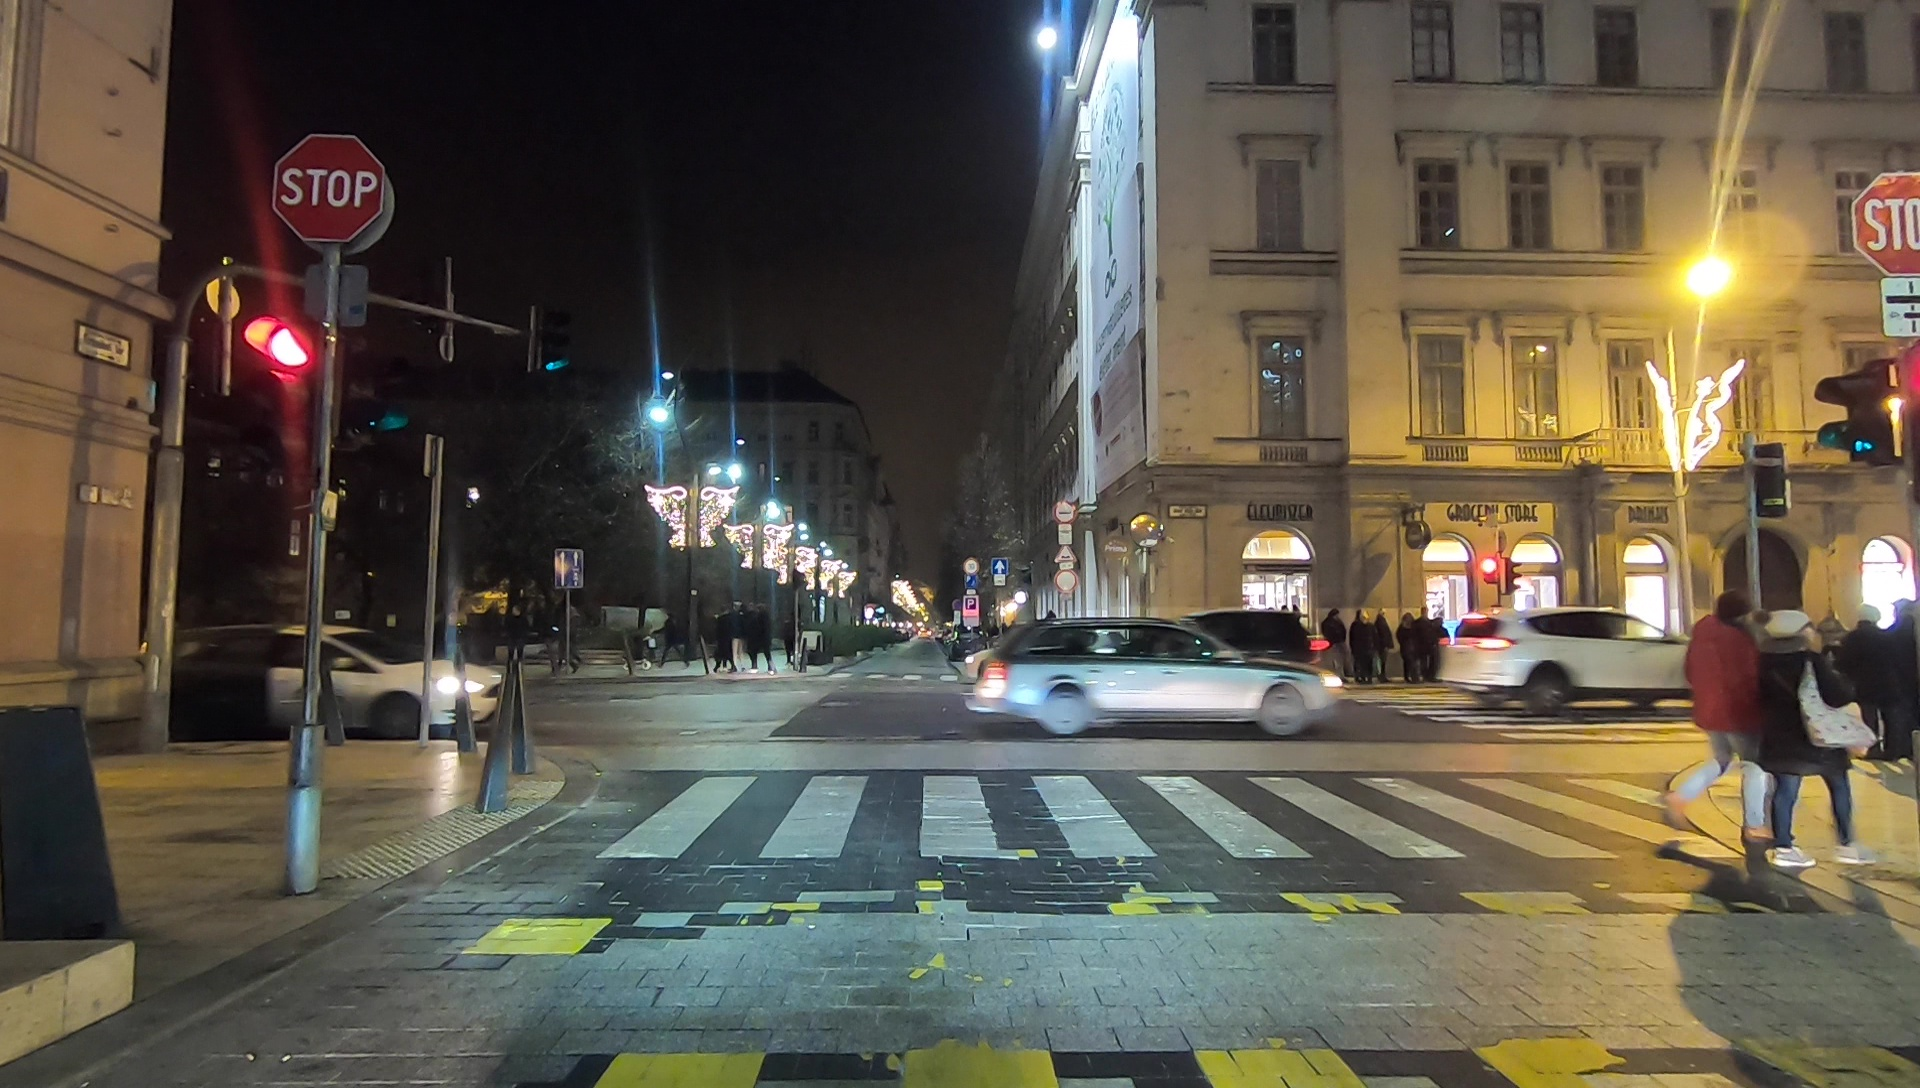person: (1758, 608, 1858, 873), (1678, 589, 1773, 843), (1845, 606, 1884, 756), (1884, 600, 1920, 761), (1352, 611, 1375, 687), (1326, 610, 1349, 686), (751, 608, 773, 678), (1376, 611, 1395, 680), (717, 608, 732, 678), (1401, 611, 1415, 678)
